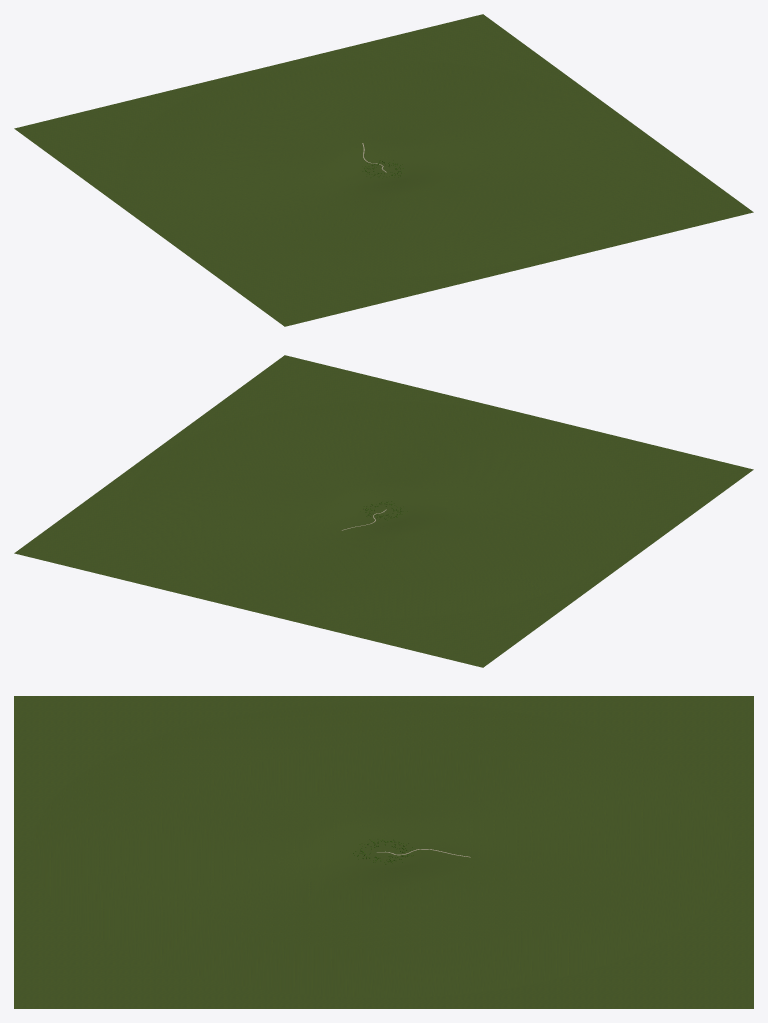
File: perimeter.glb
3 renders of one model, top to bottom at view 1: azimuth 30°, elevation 25°; view 2: azimuth 150°, elevation 25°; view 3: azimuth 270°, elevation 25°, orthographic. The views are drawn at different scales.
Parts seen in each view (by area): view 1: Rebuilt_perimeter; view 2: Rebuilt_perimeter; view 3: Rebuilt_perimeter.
Part boxes in pixels (box(x1,y1,x2,y2)): Rebuilt_perimeter: box(14, 14, 753, 326); Rebuilt_perimeter: box(14, 355, 753, 667); Rebuilt_perimeter: box(14, 696, 753, 1008).
Bounding box in the file's own units: 4000 × 31.61 × 4000.
Materials: 15 (14 with a texture image).
